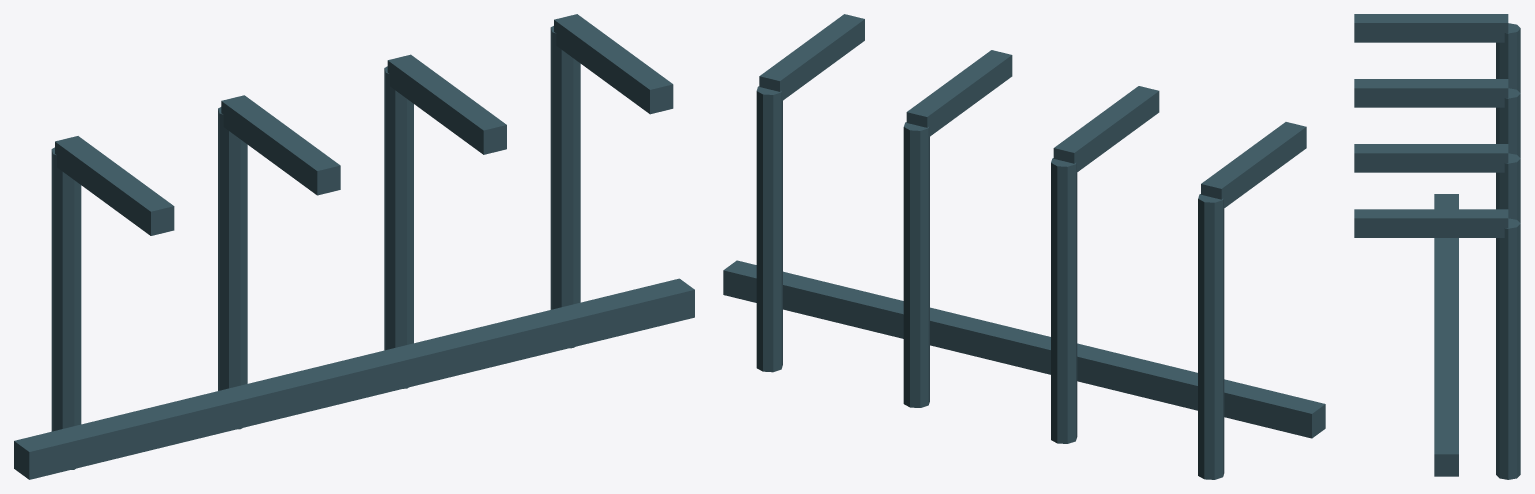
Rendered from bikeRack.obj.
3 views of the same model, side by side, from view 1: azimuth 30°, elevation 25°; view 2: azimuth 150°, elevation 25°; view 3: azimuth 270°, elevation 25° (orthographic). The views are drawn at different scales.
Parts seen in each view (by area): view 1: bikeRack; view 2: bikeRack; view 3: bikeRack.
Boxes of the visible parts, x1,y1,x2,y2 form: bikeRack: (14,14,694,479); bikeRack: (723,14,1325,479); bikeRack: (1354,14,1520,479).
Size of the model in its own units: 2 by 0.935 by 0.54.
